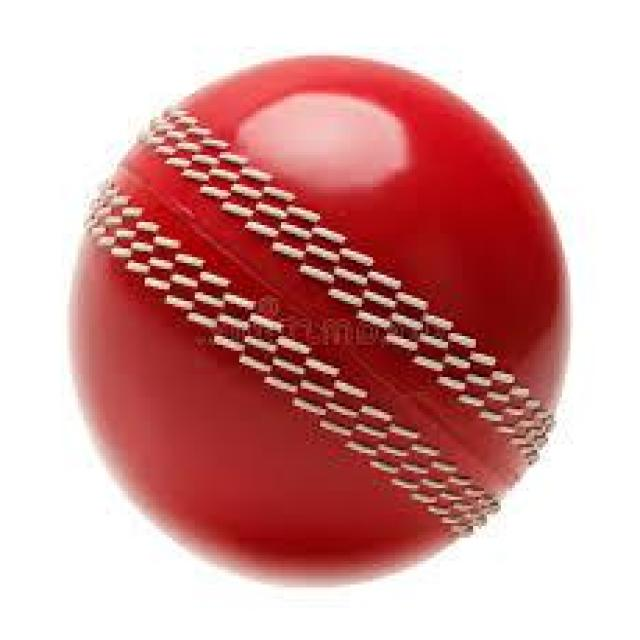ball: (64, 56, 570, 584)
